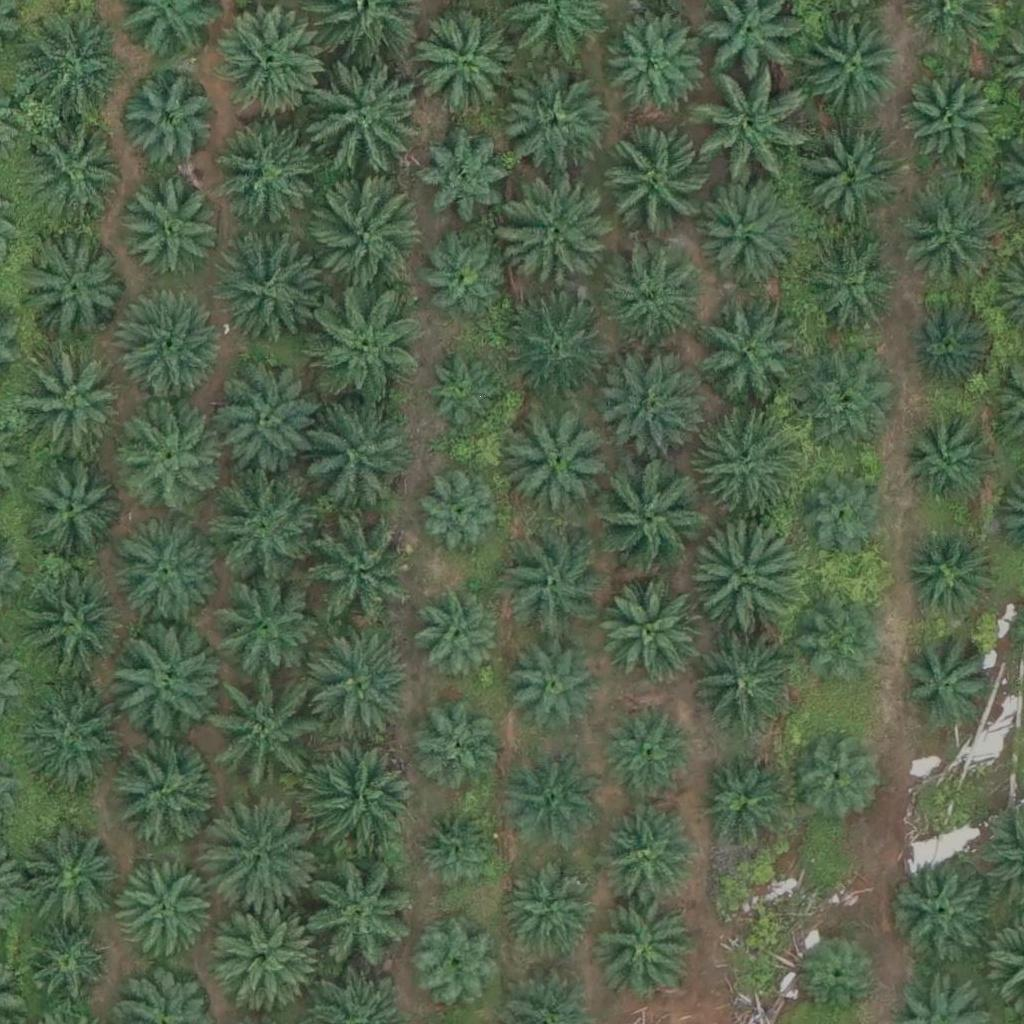Kelapa_Sawit: (208, 805, 321, 919), (496, 71, 609, 185), (214, 228, 327, 342), (306, 627, 419, 740), (302, 746, 415, 859), (295, 862, 408, 975), (102, 631, 215, 744), (689, 177, 802, 290), (693, 294, 806, 407), (686, 410, 799, 523), (599, 124, 712, 237), (313, 183, 426, 296), (207, 364, 320, 477), (214, 118, 327, 231), (113, 290, 226, 403), (19, 352, 132, 465), (17, 110, 130, 223), (18, 10, 131, 123), (794, 14, 906, 128), (603, 576, 715, 690), (308, 288, 420, 402), (17, 566, 129, 680), (689, 637, 801, 750), (208, 900, 320, 1013), (215, 675, 327, 788), (100, 736, 212, 849), (18, 684, 130, 797), (15, 824, 127, 937), (892, 180, 1004, 293), (798, 124, 910, 237), (691, 73, 803, 186), (693, 523, 805, 636), (594, 455, 706, 568), (590, 346, 702, 459), (504, 185, 616, 298), (503, 287, 615, 400), (504, 406, 616, 519), (493, 527, 605, 640), (409, 6, 521, 119), (310, 66, 422, 179), (299, 398, 411, 511), (304, 508, 416, 621), (206, 563, 318, 676), (205, 472, 317, 585), (213, 2, 325, 115), (112, 519, 224, 632), (598, 808, 698, 909), (594, 900, 694, 1001), (499, 856, 599, 957), (114, 862, 214, 963), (899, 635, 999, 736), (793, 355, 893, 456), (605, 251, 705, 352), (611, 14, 711, 115), (416, 128, 516, 229), (116, 73, 216, 174), (124, 177, 224, 278), (120, 414, 220, 515), (16, 458, 116, 559), (27, 241, 127, 342), (894, 862, 994, 962), (506, 630, 606, 730), (501, 759, 601, 859), (898, 73, 998, 173), (803, 241, 903, 341), (792, 737, 880, 825), (604, 704, 692, 792), (416, 914, 504, 1002), (19, 920, 107, 1008), (908, 299, 996, 387), (905, 536, 993, 624), (795, 932, 882, 1020), (700, 760, 787, 848), (414, 806, 501, 894), (414, 701, 501, 789), (900, 416, 987, 504), (801, 471, 888, 559), (797, 587, 884, 675), (417, 589, 504, 677), (417, 465, 504, 553), (428, 232, 515, 320), (426, 355, 501, 431)
